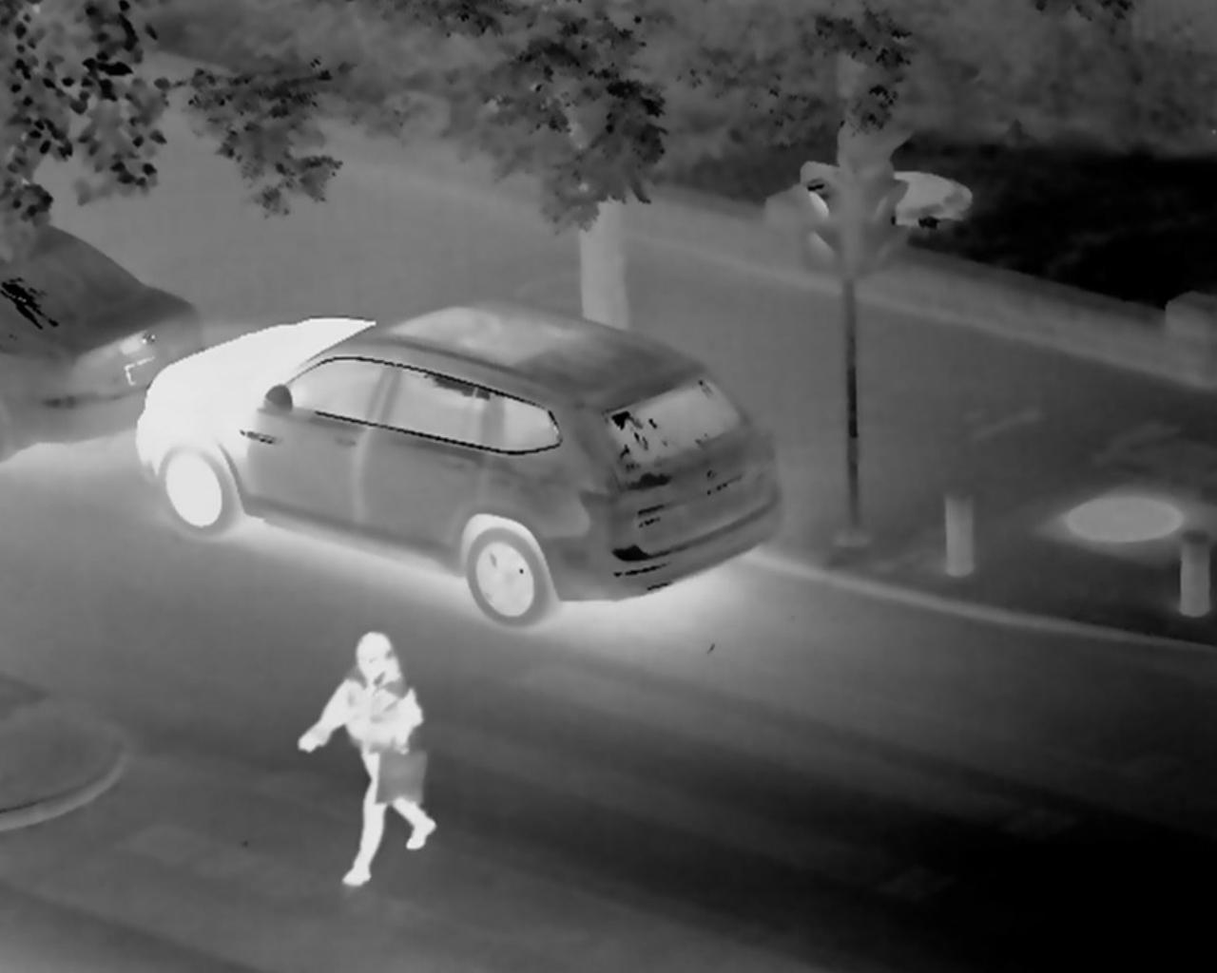person: (319, 615, 463, 891)
